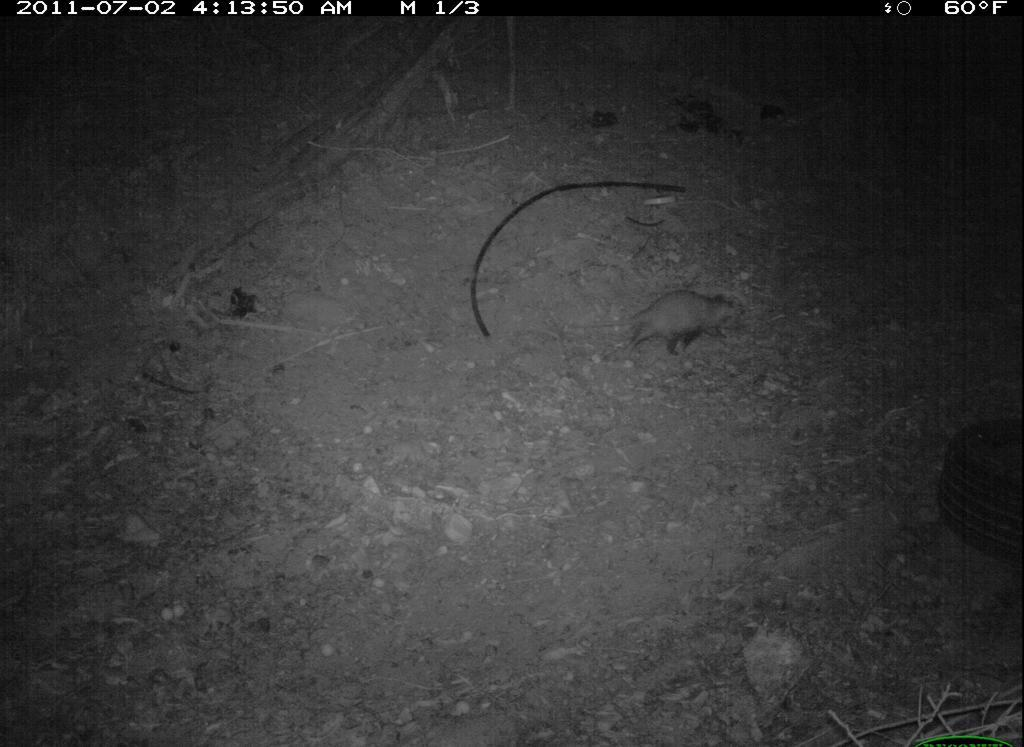opossum: (570, 287, 757, 363)
